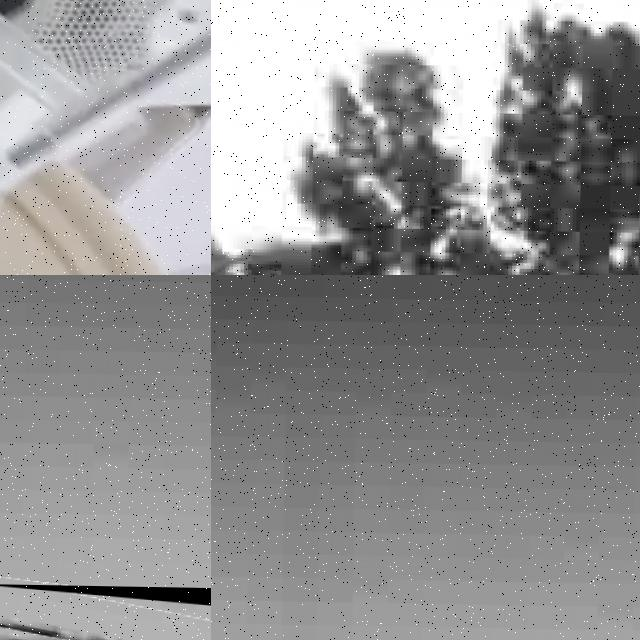0: (0, 583, 211, 640)
drone: (0, 0, 211, 275)
